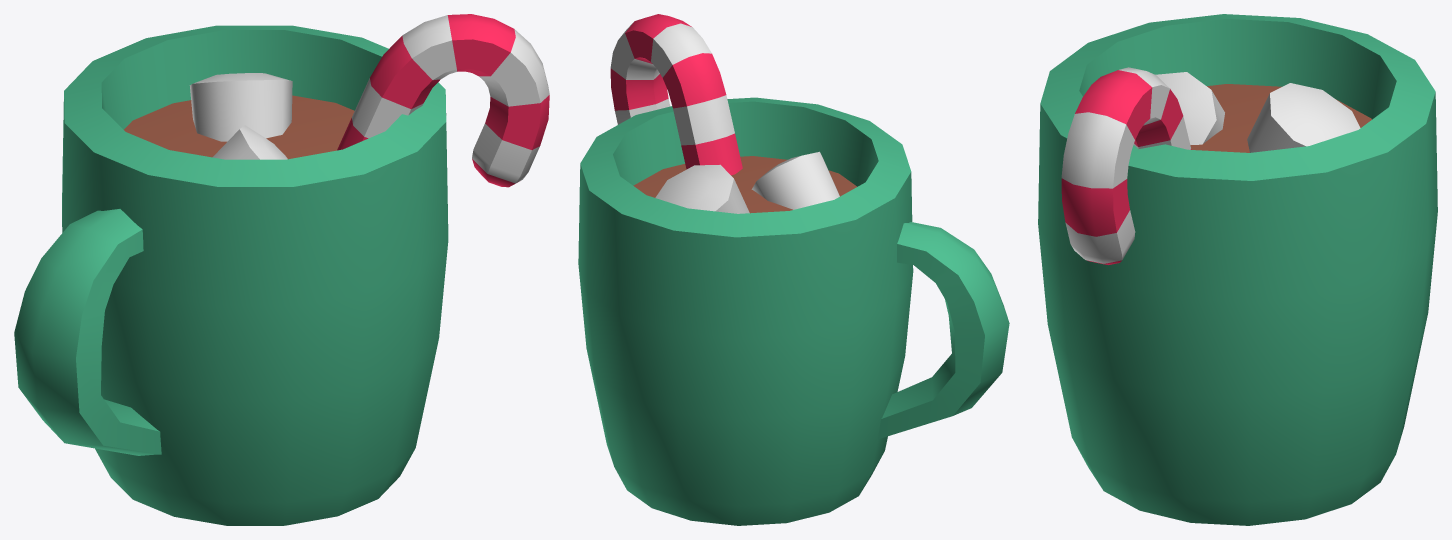
File: hotChocolateMugA.gltf.glb
3 renders of one model, left to right at view 1: azimuth 30°, elevation 25°; view 2: azimuth 150°, elevation 25°; view 3: azimuth 270°, elevation 25°, orthographic. The views are drawn at different scales.
Visible parts, largest first — view 1: hotChocolateMugA; view 2: hotChocolateMugA; view 3: hotChocolateMugA.
Boxes of the visible parts, x1,y1,x2,y2 form: hotChocolateMugA: (14,14,549,525); hotChocolateMugA: (578,14,1009,525); hotChocolateMugA: (1038,14,1437,525).
Bounding box in the file's own units: 0.5161 × 0.4568 × 0.3598.
